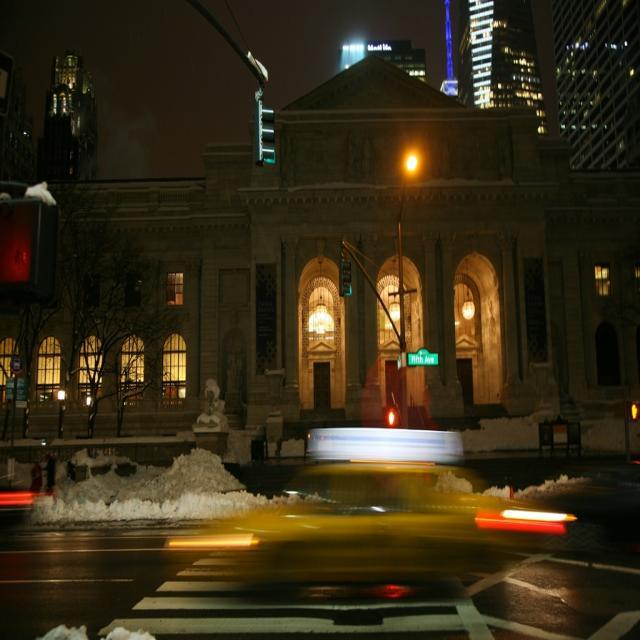off traffic light: (255, 83, 275, 166), (338, 246, 354, 300)
